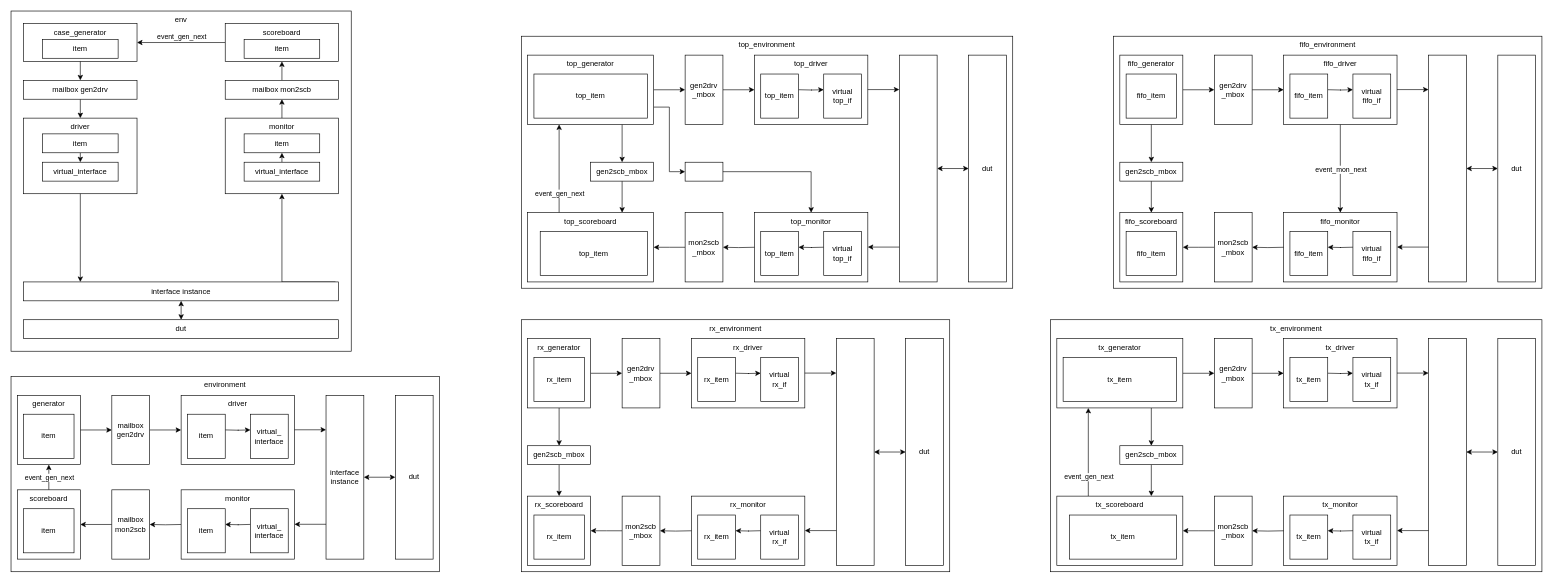
Some shapes in this 1553 by 583 pixel diagram are drawn without their labels. The shapes that lost their labels are listed below. From the top down, each one's centre as x and y in pixels, then its label:
At point 703,171: "gen2mon _mbox".
At point 918,168: "top_if".
At point 1447,168: "fifo_if".
At point 855,451: "rx_if".
At point 1447,451: "tx_if".
